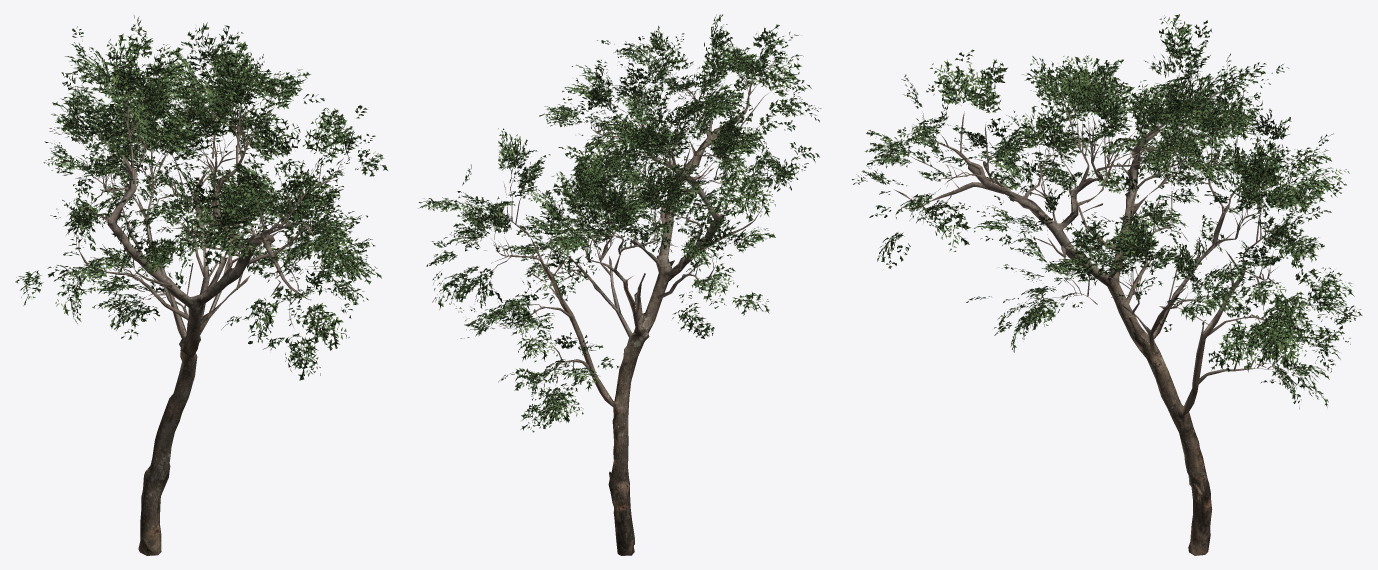
Rendered from tree_small_02_detail.glb.
3 renders of one model, left to right at view 1: azimuth 30°, elevation 25°; view 2: azimuth 150°, elevation 25°; view 3: azimuth 270°, elevation 25°, orthographic. The views are drawn at different scales.
Visible parts, largest first — view 1: tree_small_02_LOD0; view 2: tree_small_02_LOD0; view 3: tree_small_02_LOD0.
Boxes of the visible parts, x1,y1,x2,y2 form: tree_small_02_LOD0: (15, 15, 387, 555); tree_small_02_LOD0: (418, 14, 821, 555); tree_small_02_LOD0: (852, 14, 1362, 555).
Bounding box in the file's own units: 2.91 × 4.55 × 4.23.
3 materials, 3 textured.
